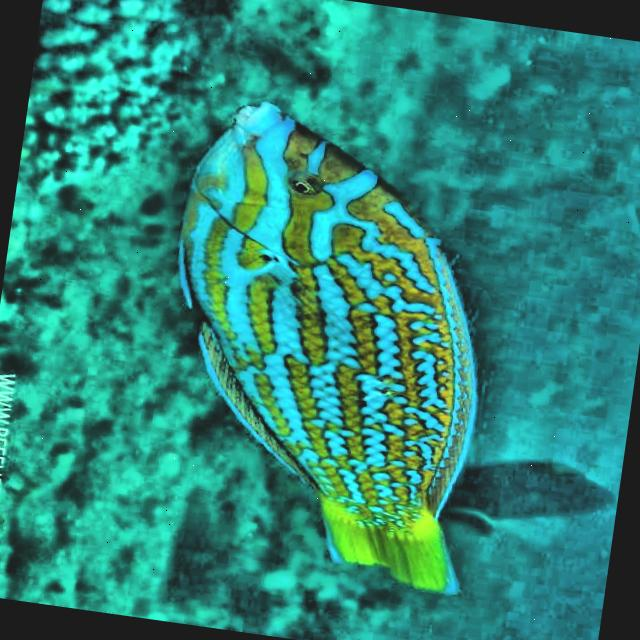fish: (129, 91, 524, 597)
